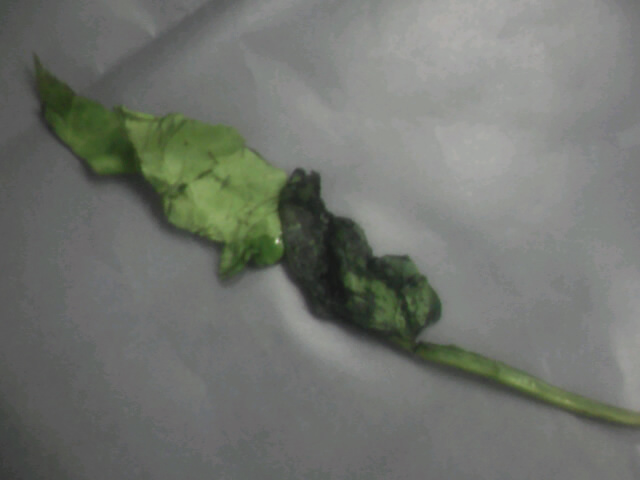yellow: (47, 50, 462, 368)
